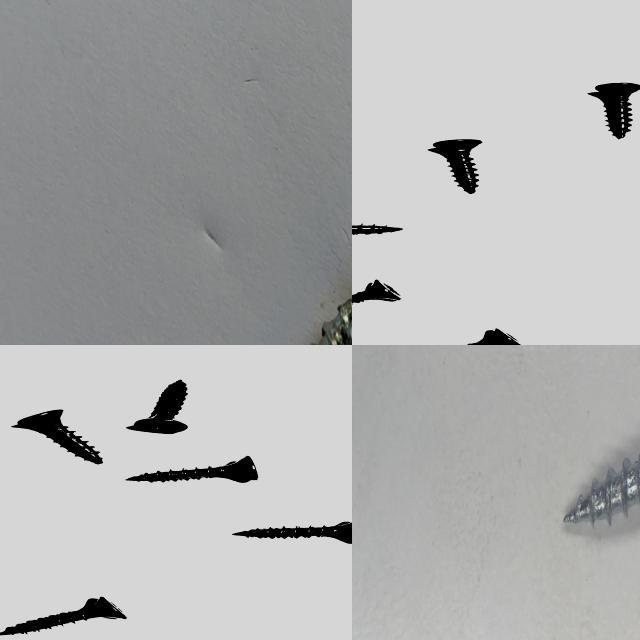Screw: (564, 456, 640, 524), (13, 409, 104, 464), (0, 597, 128, 636), (128, 456, 261, 482), (129, 380, 190, 433), (429, 139, 483, 193), (590, 82, 640, 138), (235, 522, 352, 544), (352, 280, 401, 304), (466, 329, 522, 345), (352, 225, 403, 234)
